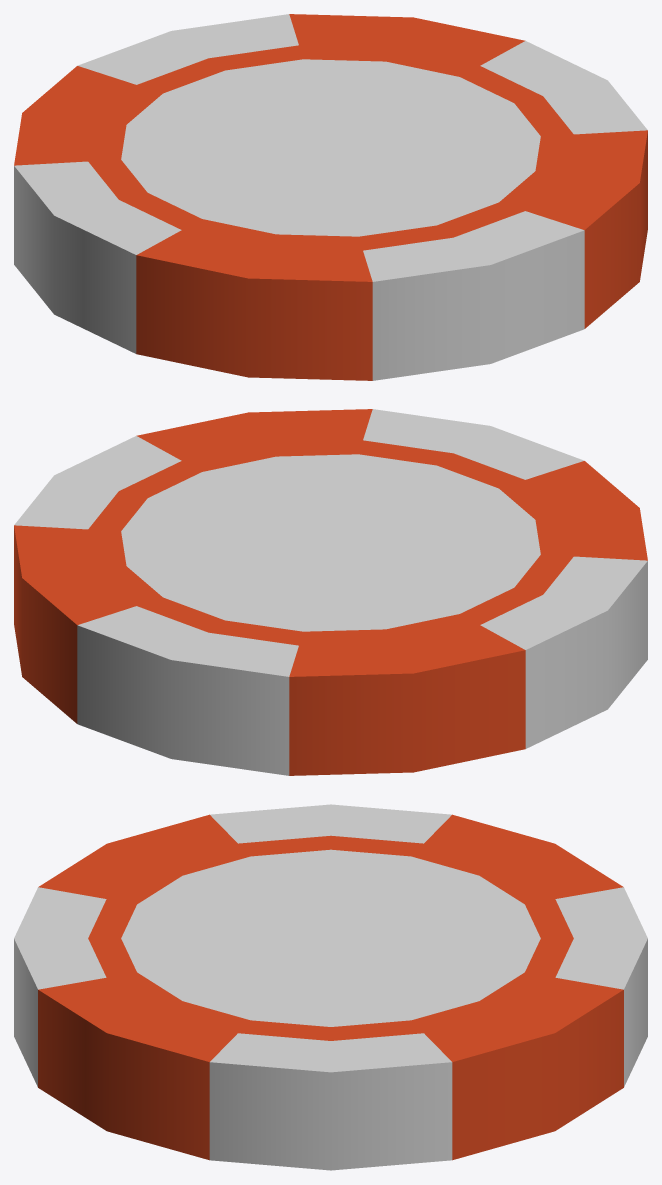
Rendered from orange_chips.glb.
The picture shows the model from 3 angles, top to bottom: view 1: azimuth 30°, elevation 25°; view 2: azimuth 150°, elevation 25°; view 3: azimuth 270°, elevation 25°; orthographic projection.
Visible parts, largest first — view 1: Cylinder, Cylinder_Mat_0.001; view 2: Cylinder, Cylinder_Mat_0.001; view 3: Cylinder, Cylinder_Mat_0.001.
Part boxes in pixels (left/top/right/bottom): Cylinder: left=14, top=14, right=647, bottom=380; Cylinder_Mat_0.001: left=14, top=14, right=647, bottom=380; Cylinder: left=14, top=409, right=647, bottom=775; Cylinder_Mat_0.001: left=14, top=409, right=647, bottom=775; Cylinder: left=14, top=804, right=647, bottom=1170; Cylinder_Mat_0.001: left=38, top=814, right=623, bottom=1160.
Size of the model in its own units: 100 by 17.08 by 100.
